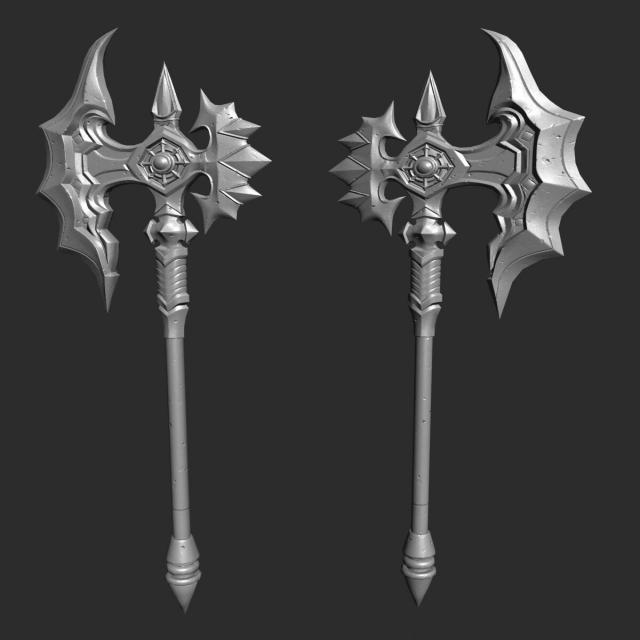axe: (333, 20, 594, 607), (41, 21, 261, 617)
